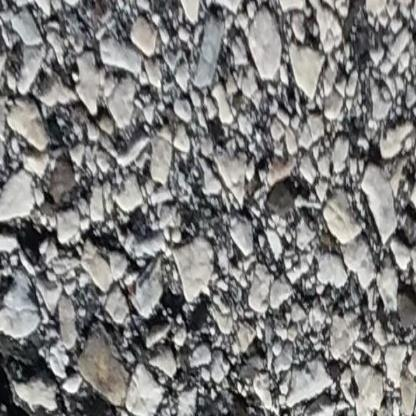Cracks: (0, 325, 42, 416)
